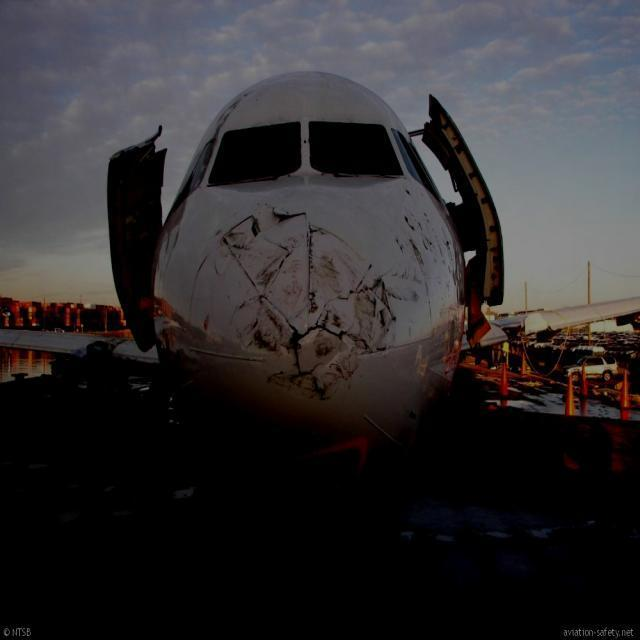crack: (189, 207, 400, 406)
